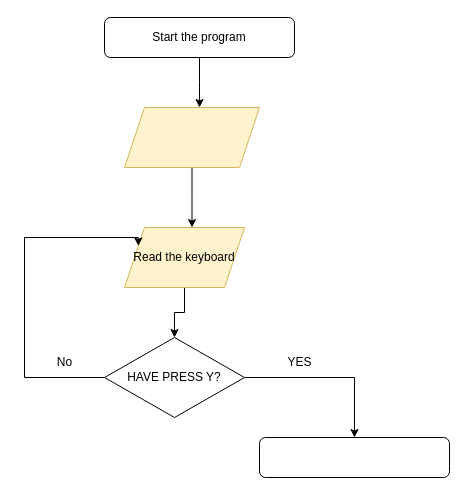
Some shapes in this 467 by 495 pixel diagram are drawn without their labels. Each missing label, with the centre of its shape:
"End the program" goes at (x=354, y=457).
"Press Y to continue" goes at (x=192, y=137).
